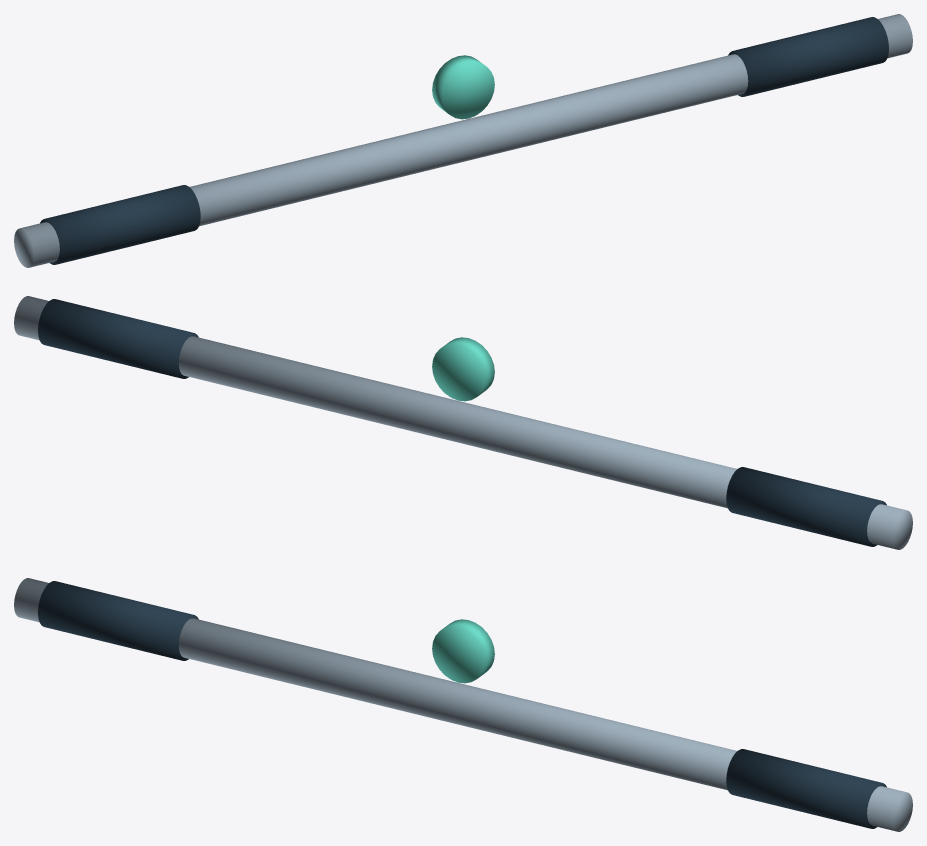
Rendered from cable_straight_bar.glb.
The picture shows the model from 3 angles, top to bottom: view 1: azimuth 30°, elevation 25°; view 2: azimuth 150°, elevation 25°; view 3: azimuth 330°, elevation 25°; orthographic projection.
Visible parts, largest first — view 1: shaft, rubber_R, rubber_L, eye; view 2: shaft, rubber_R, rubber_L, eye; view 3: shaft, rubber_L, rubber_R, eye.
Boxes of the visible parts, x1,y1,x2,y2 form: shaft: [14, 14, 912, 267]; rubber_R: [40, 185, 200, 264]; rubber_L: [728, 17, 888, 96]; eye: [432, 55, 494, 119]; shaft: [14, 296, 912, 549]; rubber_R: [726, 467, 886, 546]; rubber_L: [38, 299, 198, 378]; eye: [432, 337, 494, 401]; shaft: [14, 578, 912, 831]; rubber_L: [726, 749, 886, 828]; rubber_R: [38, 581, 198, 660]; eye: [432, 619, 494, 683].
Bounding box in the file's own units: 0.6 × 0.067 × 0.028.
